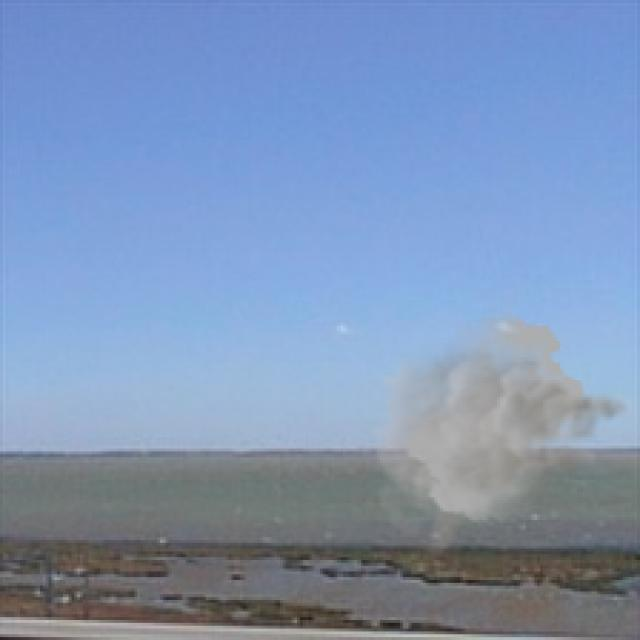smoke: (369, 312, 637, 557)
